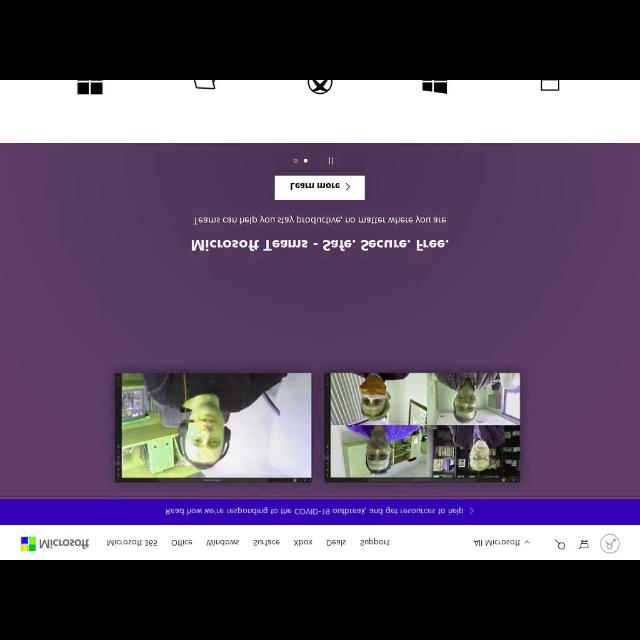icon: (327, 155, 339, 167), (468, 504, 478, 514), (344, 182, 354, 190), (526, 536, 532, 548)
image: (116, 374, 314, 484), (17, 531, 97, 555), (74, 81, 108, 97)
pageindicator: (294, 155, 310, 167)
spinner: (469, 532, 535, 554)
text: (324, 372, 522, 482), (161, 504, 475, 518), (189, 236, 451, 252), (193, 212, 449, 224), (473, 536, 523, 550), (105, 535, 163, 547), (596, 530, 622, 556), (408, 82, 454, 94), (204, 535, 242, 549), (358, 533, 389, 547), (304, 82, 336, 95), (252, 536, 284, 548), (191, 81, 223, 93), (536, 81, 564, 93), (295, 536, 315, 550), (172, 538, 194, 548), (324, 537, 346, 547), (578, 538, 590, 550), (554, 539, 564, 549)
textbutton: (274, 176, 364, 200)
